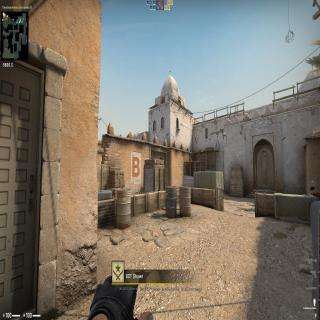T-Head: (310, 186, 315, 192)
